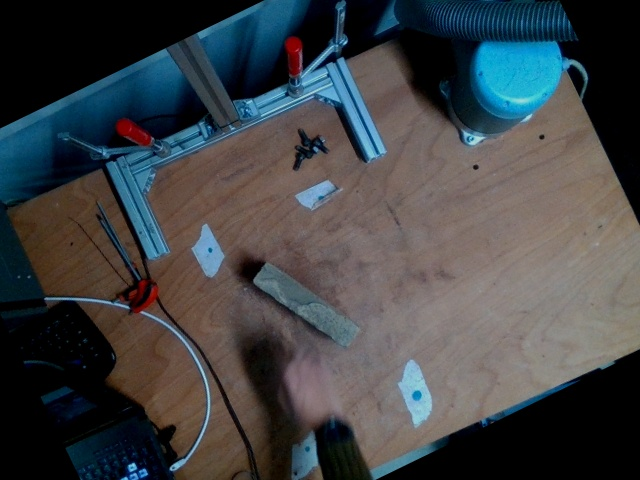brick-side: (254, 266, 357, 344)
